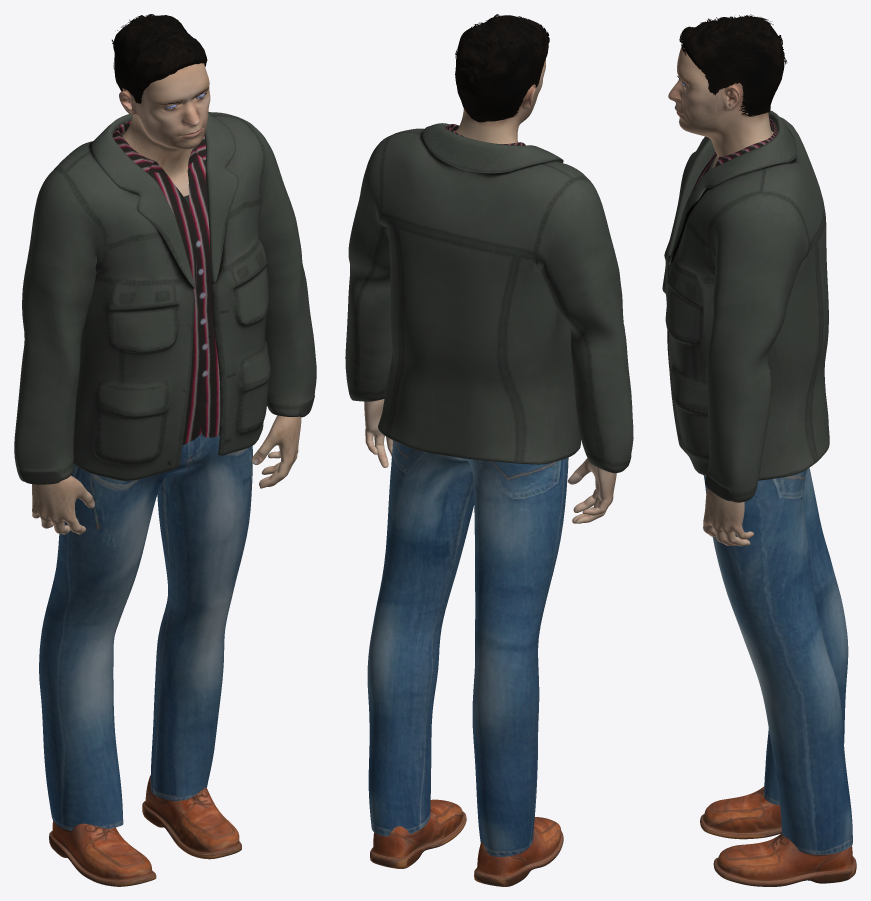
The model's file is caleb.glb.
The picture shows the model from 3 angles, left to right: view 1: azimuth 30°, elevation 25°; view 2: azimuth 150°, elevation 25°; view 3: azimuth 270°, elevation 25°; orthographic projection. The views are drawn at different scales.
Parts seen in each view (by area): view 1: man_body.male_casualsuit05, man_body, man_body.shoes01, man_body.short01; view 2: man_body.male_casualsuit05, man_body.short01, man_body.shoes01, man_body; view 3: man_body.male_casualsuit05, man_body.shoes01, man_body, man_body.short01.
Part boxes in pixels (x1,y1,x2,y2): man_body.male_casualsuit05: [14, 112, 316, 830]; man_body: [32, 63, 301, 534]; man_body.shoes01: [49, 775, 241, 886]; man_body.short01: [111, 14, 207, 103]; man_body.male_casualsuit05: [345, 123, 633, 856]; man_body.short01: [455, 14, 549, 122]; man_body.shoes01: [370, 799, 563, 886]; man_body: [364, 59, 616, 523]; man_body.male_casualsuit05: [662, 110, 852, 854]; man_body.shoes01: [700, 786, 856, 886]; man_body: [668, 47, 773, 546]; man_body.short01: [679, 14, 787, 116].
Size of the model in its own units: 0.6592 by 1.79 by 0.3814.
9 materials, 9 textured.
